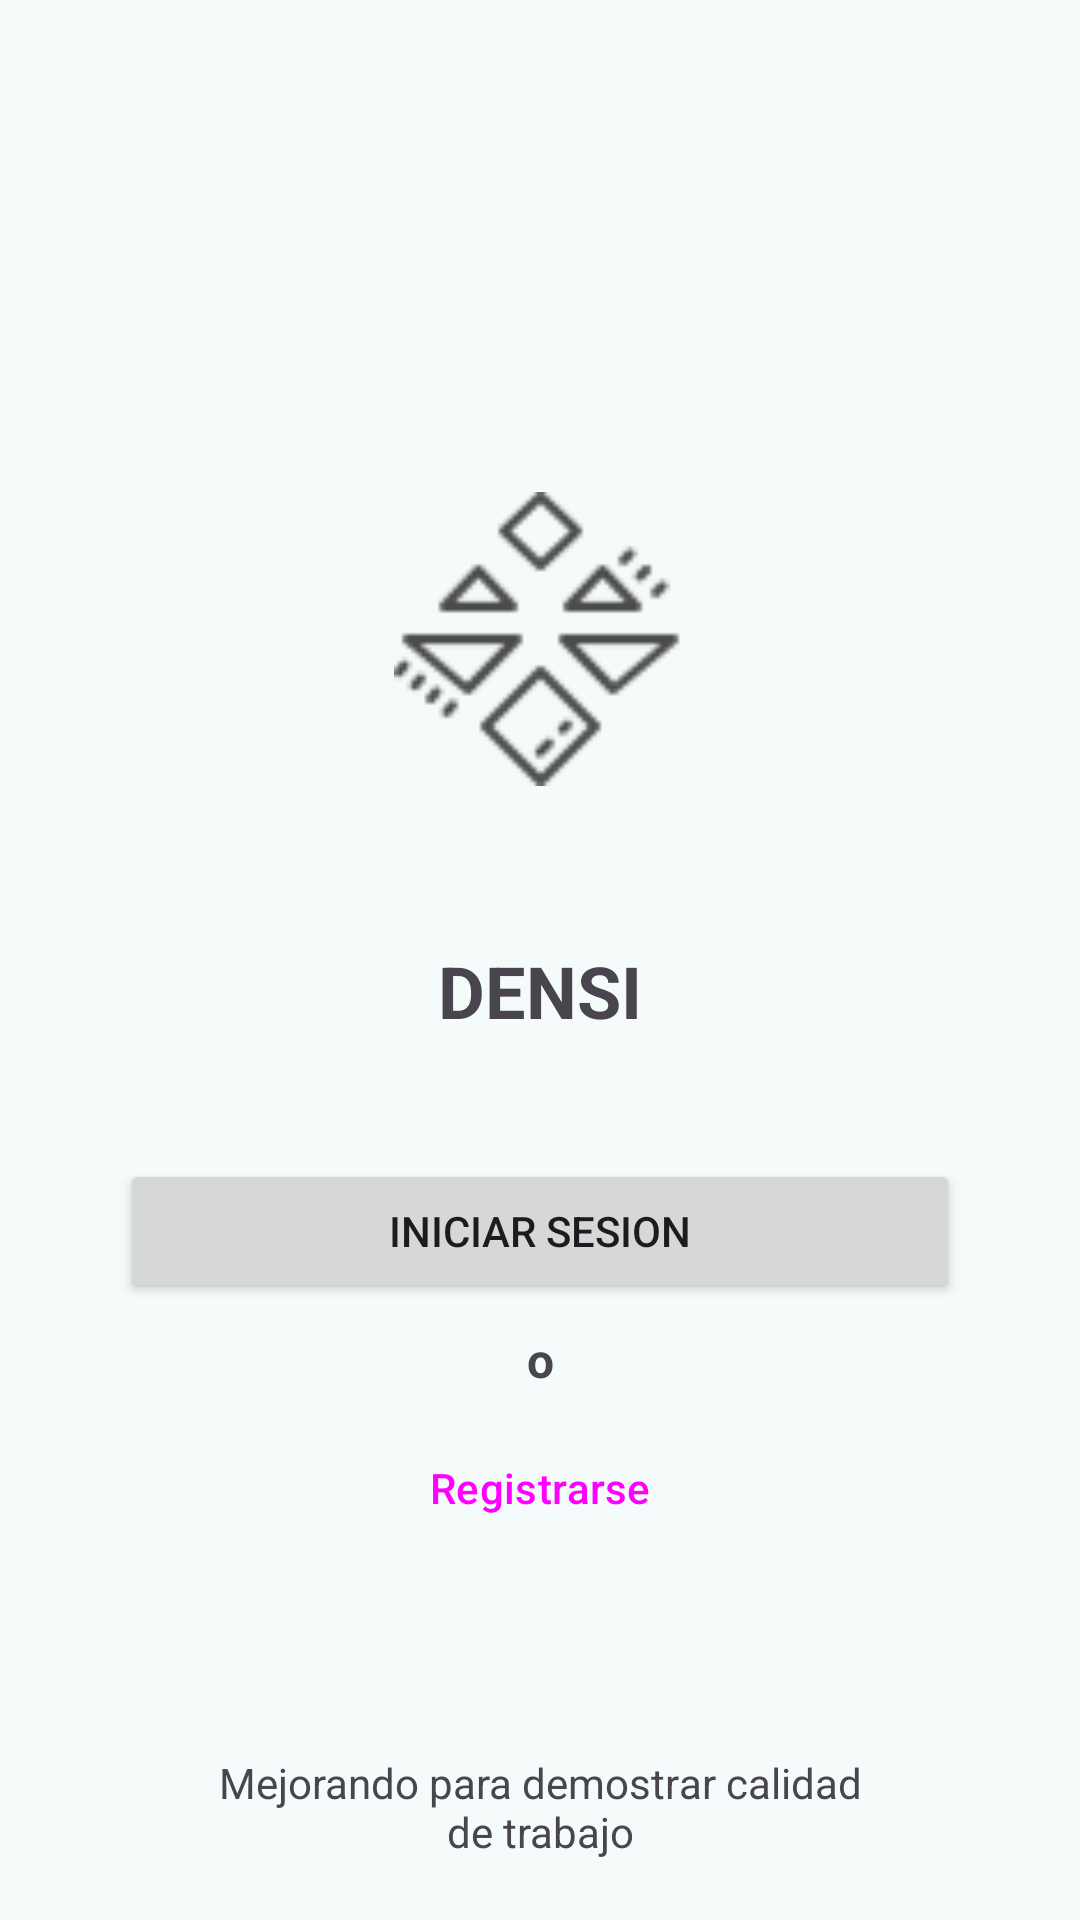

Where icons sit on this 1080 × 1920 app screen, as (x1,y1,x2,y2):
mbolo de equilibrio: (394,492,680,786)
